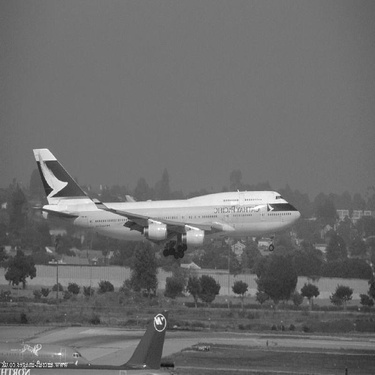airplane: (16, 118, 310, 275), (16, 287, 203, 371)
